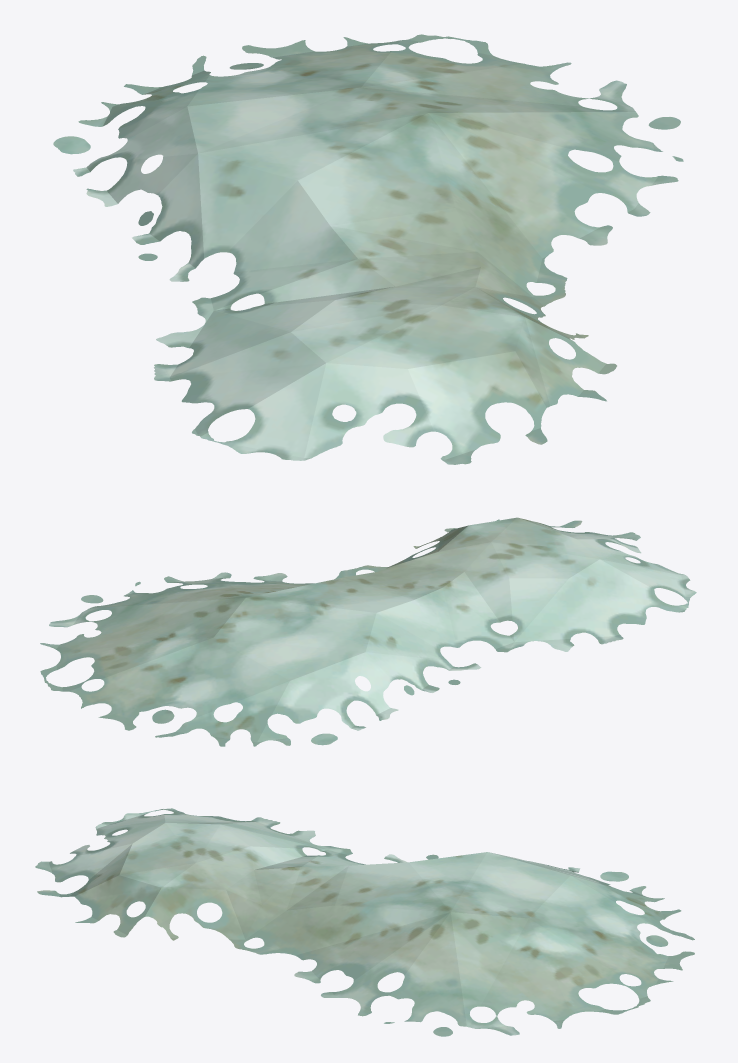
File: small_hill04_grassblend.fbx
3 views of the same model, one above another, from view 1: azimuth 30°, elevation 25°; view 2: azimuth 150°, elevation 25°; view 3: azimuth 270°, elevation 25° (orthographic). The views are drawn at different scales.
Parts seen in each view (by area): view 1: obj0.087; view 2: obj0.087; view 3: obj0.087.
Boxes of the visible parts, left/top/right/bottom form: obj0.087: left=53, top=34, right=683, bottom=464; obj0.087: left=40, top=517, right=696, bottom=746; obj0.087: left=35, top=808, right=694, bottom=1036.
Bounding box in the file's own units: 15.45 × 1.2 × 17.97.
